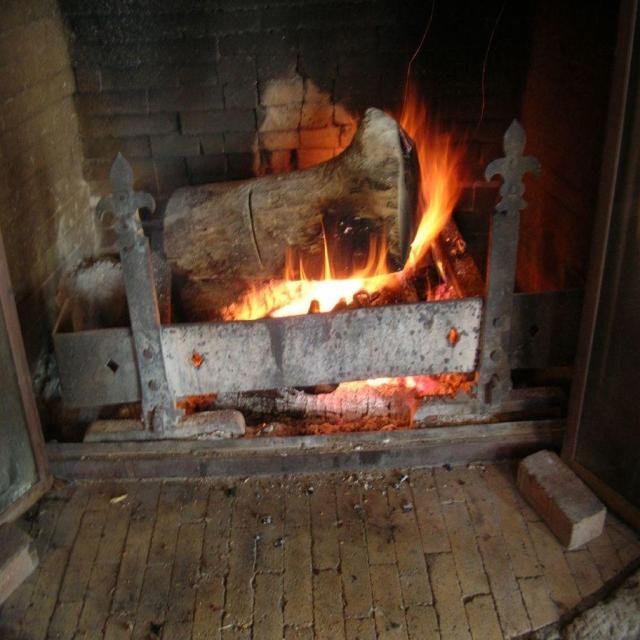Fire: (213, 136, 481, 331)
